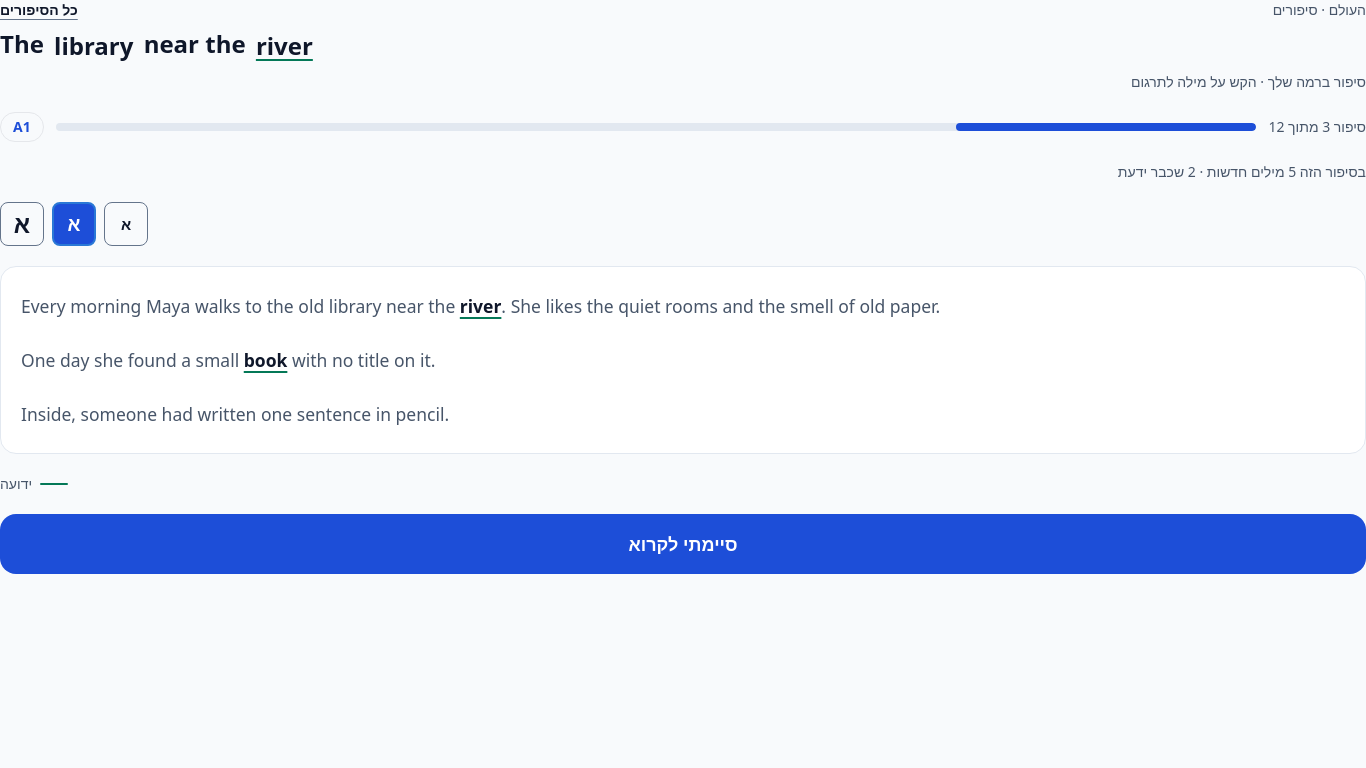
T-238ⓑ — הפופאובר בסיפור מדווח מה שקרה באמת (D-183) › ⬜ מצב פתיחה — «הוסף לכרטיסיות» מוצג, ⛔ ולא «נוספה לחזרה»
Click the button "library" in the row of "to" at (355, 306), box x1=321 y1=279 x2=389 y2=333
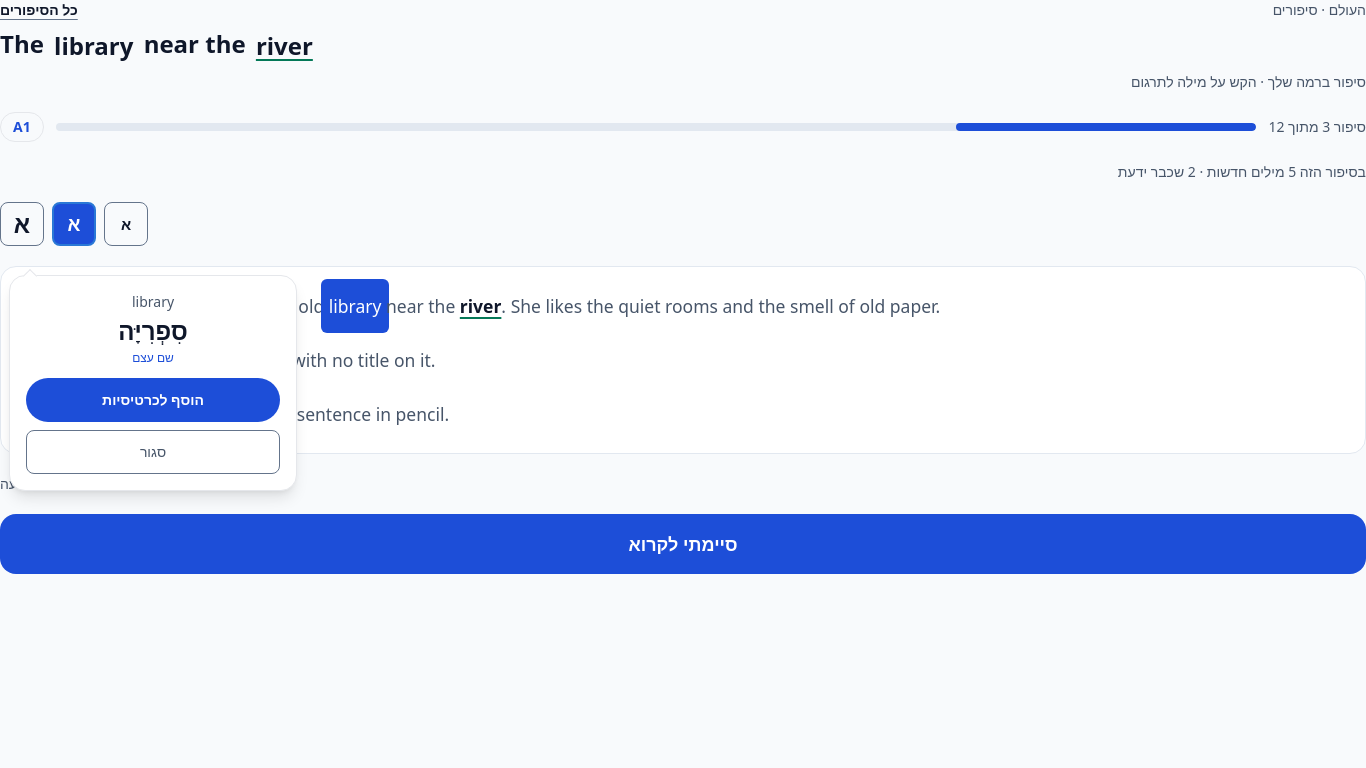
Check: the button "הוסף לכרטיסיות" is shown, box x1=26 y1=378 x2=280 y2=422
